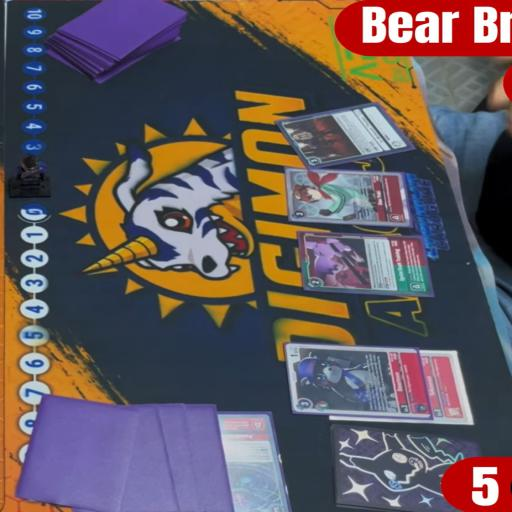card: (284, 346, 429, 416), (330, 352, 475, 422), (276, 103, 416, 168), (302, 234, 430, 296), (216, 406, 290, 512), (284, 167, 412, 224)
